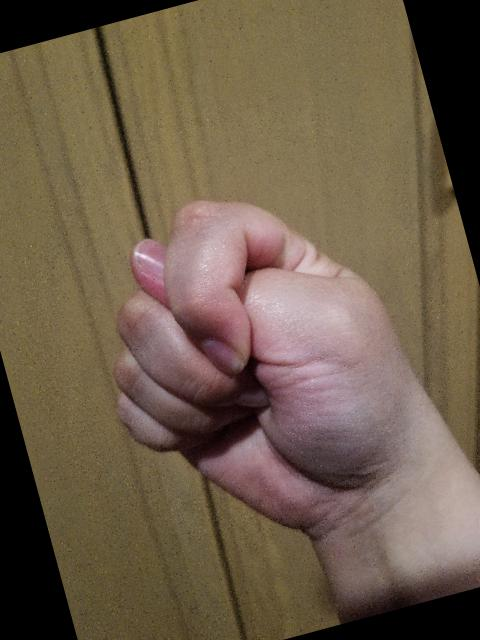T: (59, 142, 474, 583)
